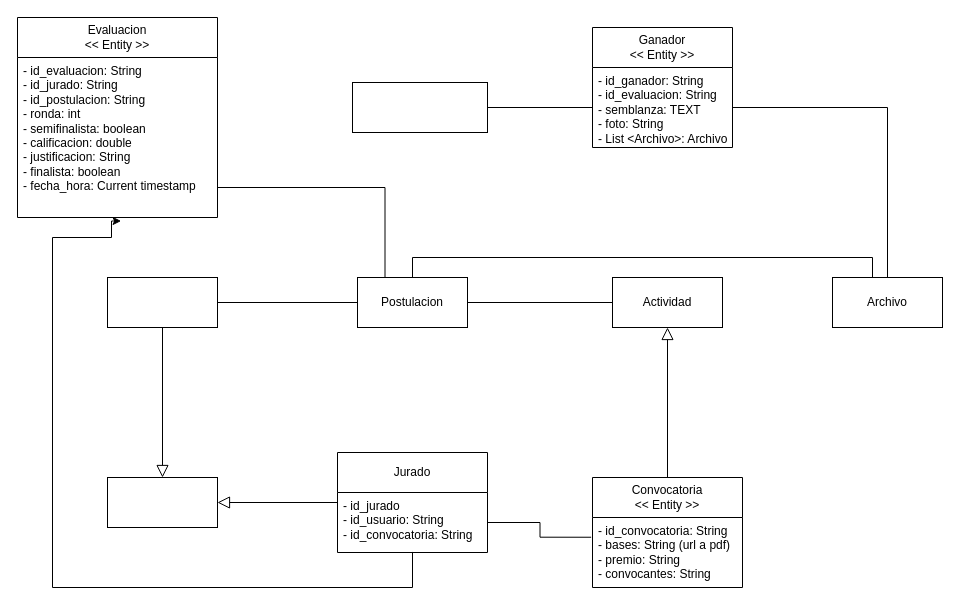
Image size: 960x613. Some labels were removed from this diagram. Here are the shapes that lost their labels. From the top down, the centre of each, then its label:
At pixel 420 107: "ResultadoRondaUno".
At pixel 162 302: "Participante".
At pixel 162 502: "Usuario".
